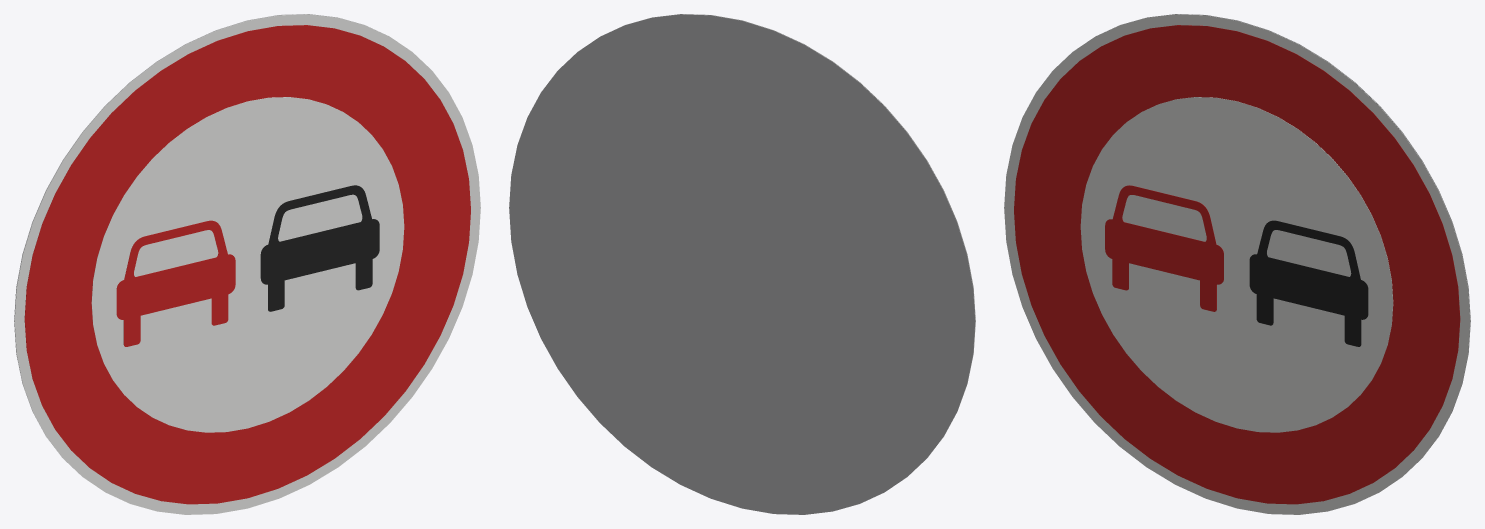
3 views of the same model, side by side, from view 1: azimuth 30°, elevation 25°; view 2: azimuth 150°, elevation 25°; view 3: azimuth 330°, elevation 25° (orthographic).
Parts seen in each view (by area): view 1: B3_p01, B3_p02, B3_p00, B3_p04, B3_p03, B3_dos; view 2: B3_dos, B3_p00; view 3: B3_p01, B3_p02, B3_p00, B3_p03, B3_p04, B3_dos.
Boxes of the visible parts, x1,y1,x2,y2 form: B3_p01: (24,25,470,504); B3_p02: (91,97,404,432); B3_p00: (14,14,480,514); B3_p04: (116,220,235,346); B3_p03: (260,185,379,311); B3_dos: (14,14,385,473); B3_dos: (509,14,975,514); B3_p00: (604,14,975,473); B3_p01: (1014,25,1460,504); B3_p02: (1080,97,1393,432); B3_p00: (1004,14,1470,514); B3_p03: (1249,220,1368,346); B3_p04: (1105,185,1223,311); B3_dos: (1099,14,1470,473).
Size of the model in its own units: 0.85 by 0.8498 by 0.0035.
